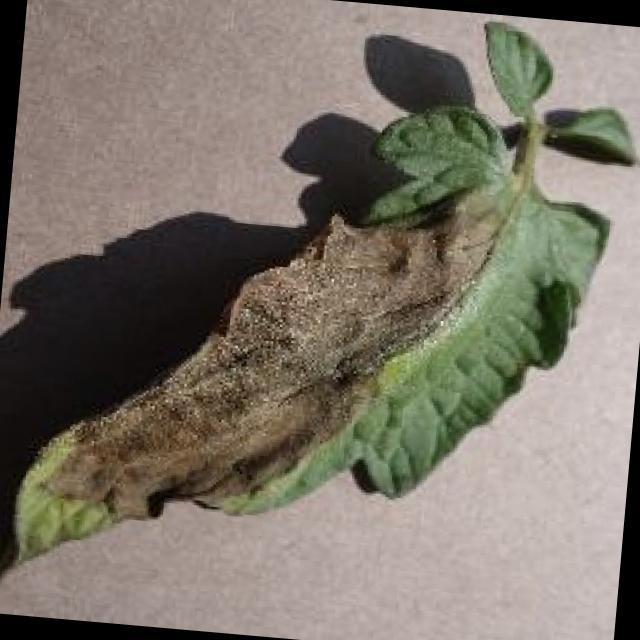Tomato healthy leaf: (476, 22, 561, 126)
Tomato late blight leaf: (7, 64, 622, 618)
